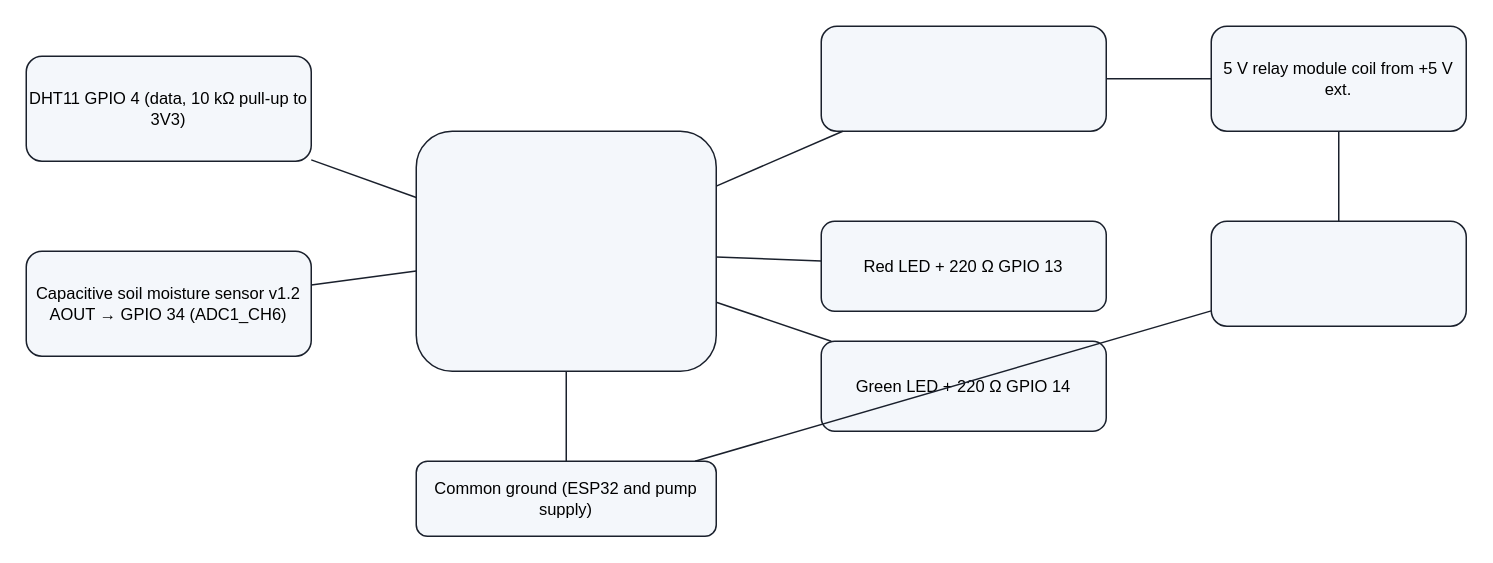
The diagram is 1493 pixels wide and 563 high, and some of its shapes have lost their labels. The shapes that lost their labels are listed below. From the top down, each one's centre as x and y in pixels, then its label:
[963,78]: BC547B + 1 kΩ base from GPIO 26
[565,250]: ESP32-WROOM-32 3V3 / GND hysteresis 30 / 60 %
[1338,273]: DC pump 3–6 V via COM / NO
